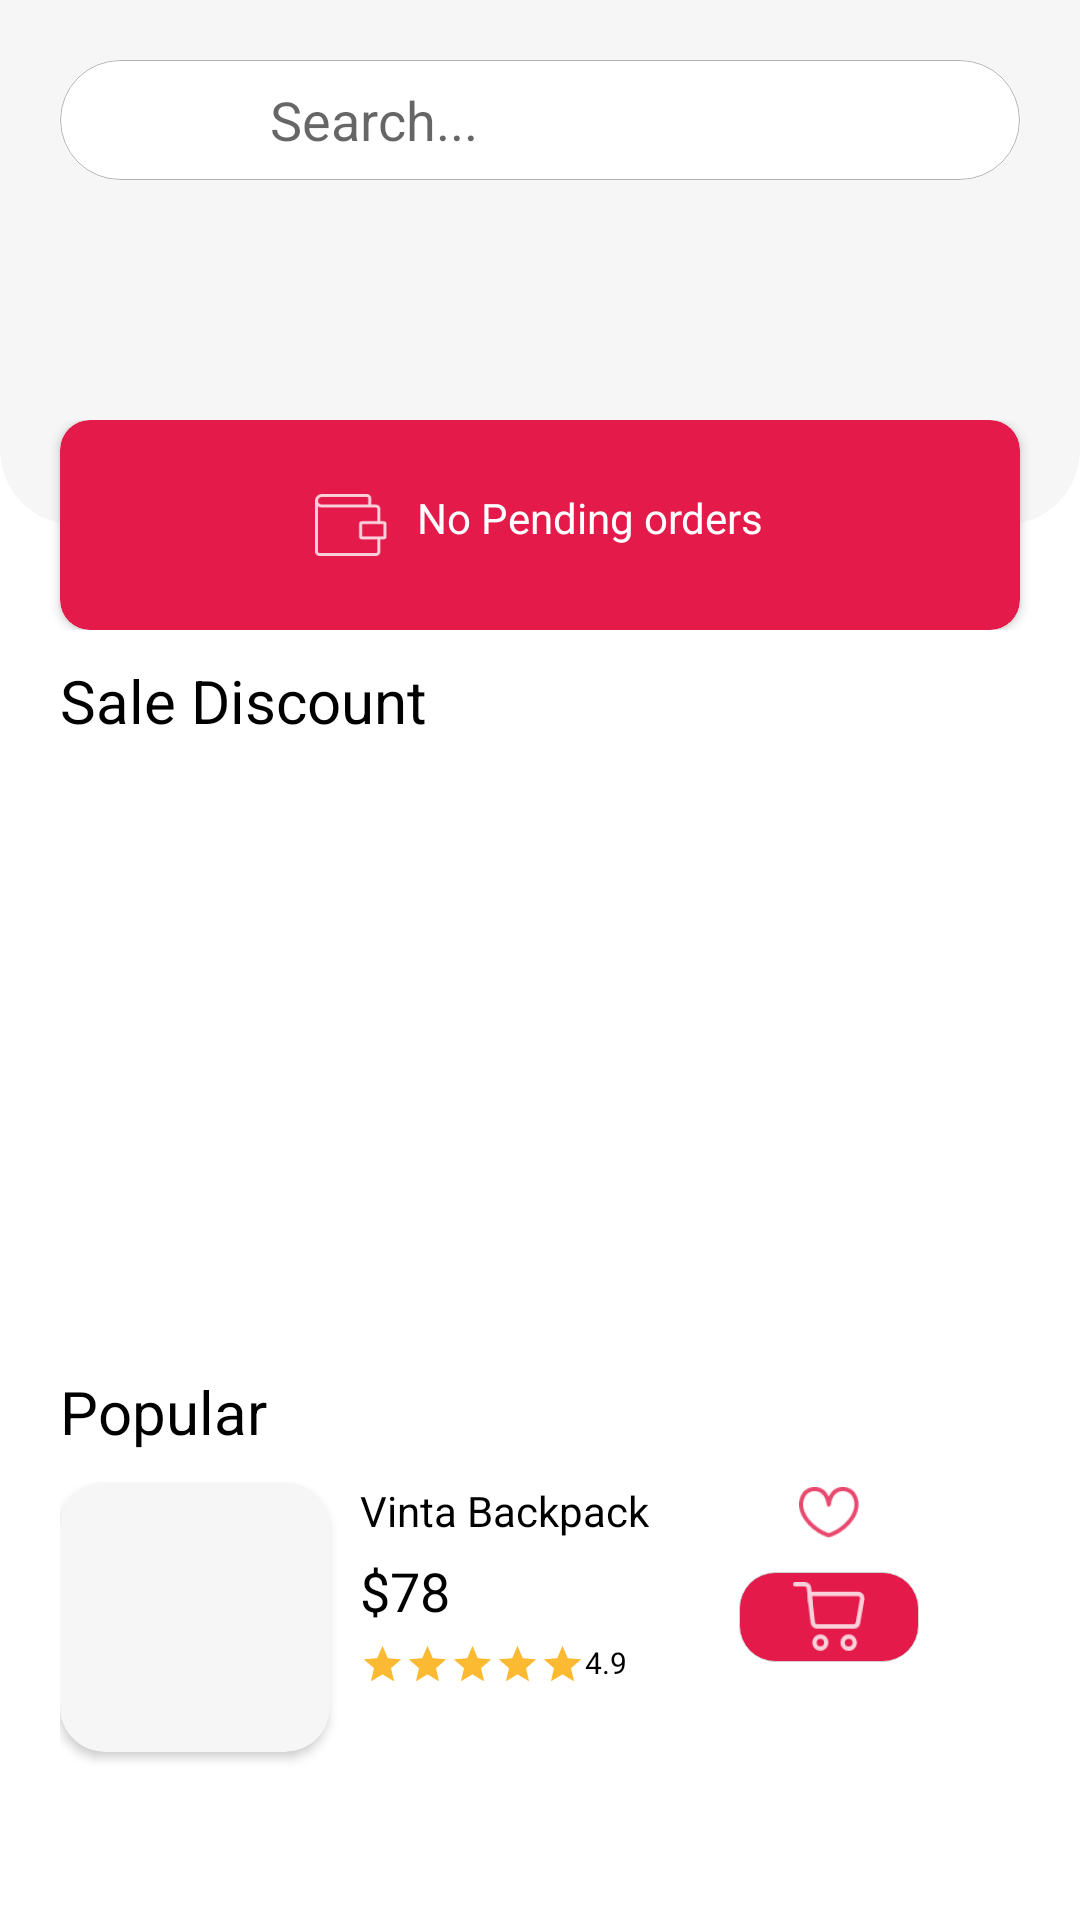

Point at icon controls on the screen. Image size 1080x1920, points as (x,y).
love: (829,1512)
shopping cart: (829,1617)
star: (382,1663), (427,1663), (472,1663), (517,1663), (562,1663)
